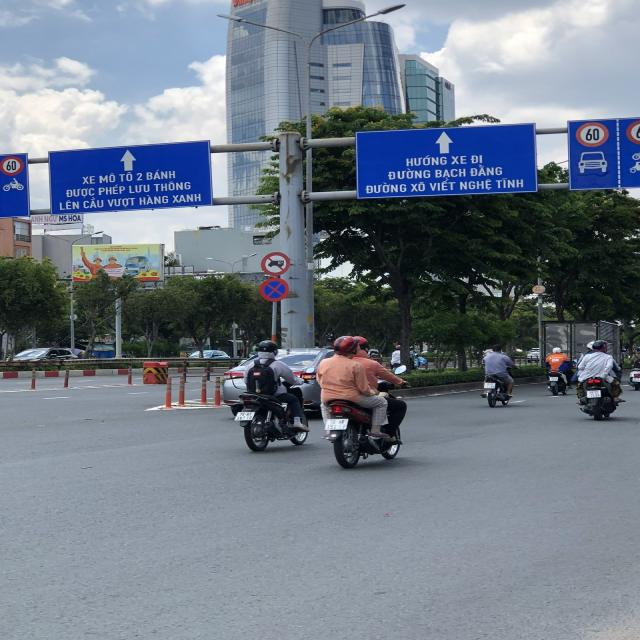Bien bao cam dung xe va do xe: (258, 276, 294, 304)
Bien bao cam xe oto tai: (261, 247, 293, 275)
Bien bao toc do toi da cho phep: (571, 117, 611, 147), (0, 151, 24, 178)
